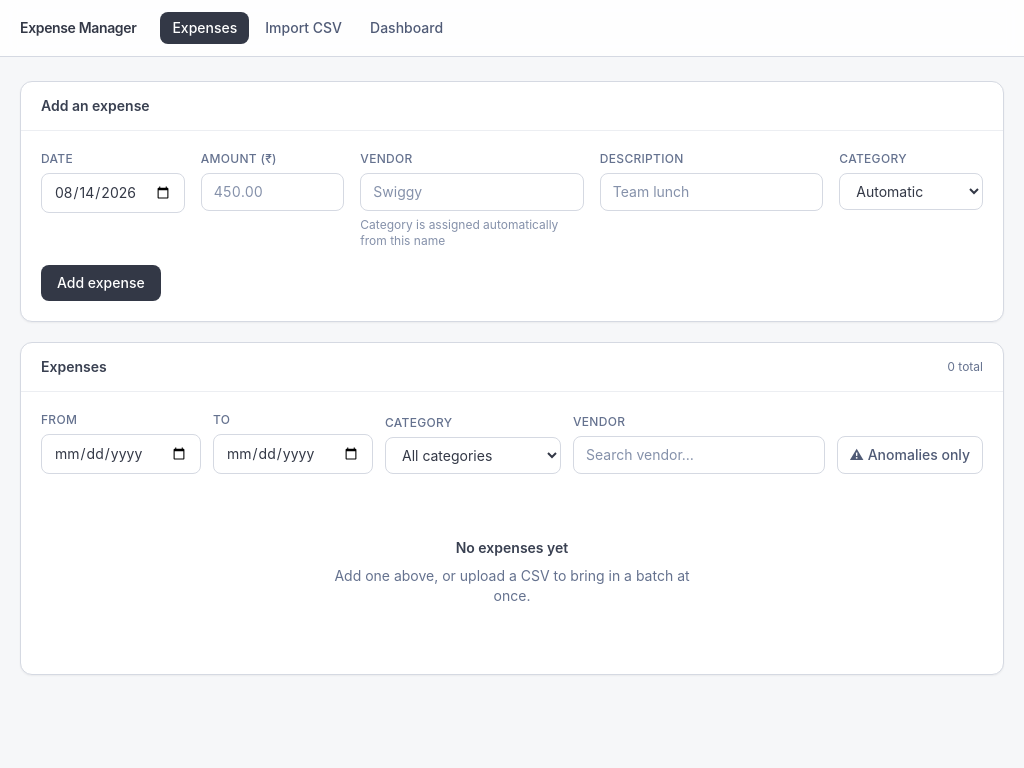
Test: App › navigates to the dashboard route and shows its tiles
Click the link "Dashboard" at (406, 28), box 370,19 -> 443,36
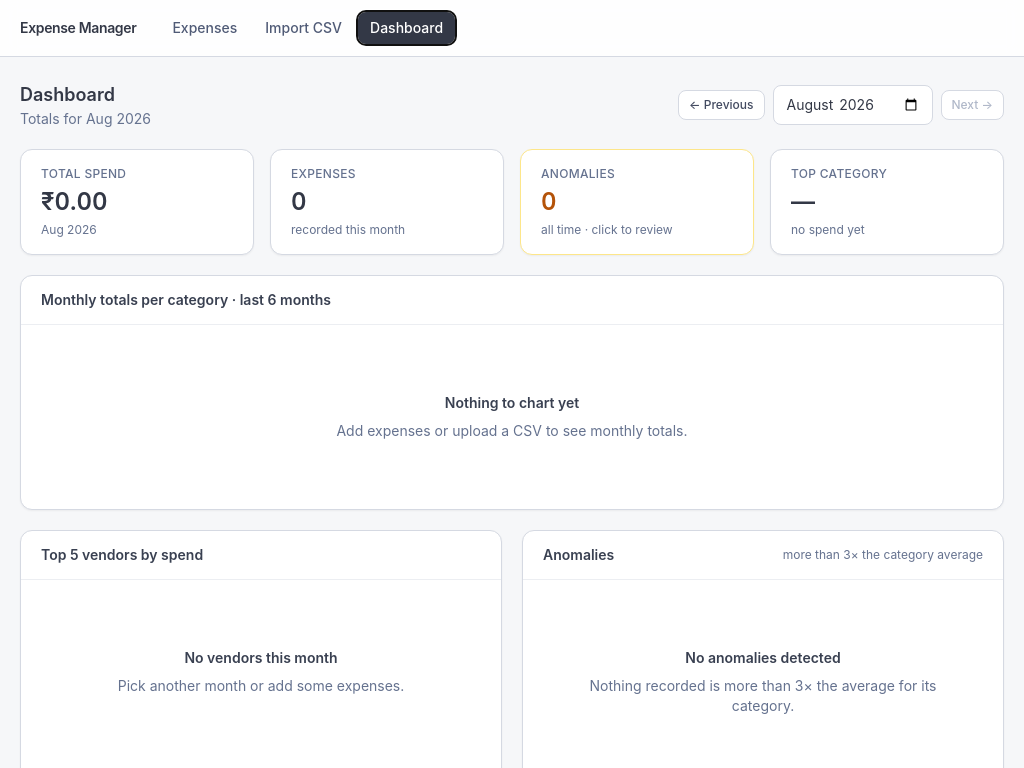
Check: the text "Total spend" is shown, box 41,166 -> 126,181
Check: the text "Top category" is shown, box 791,166 -> 887,181
Check: the text "No anomalies detected" is shown, box 685,648 -> 841,668
